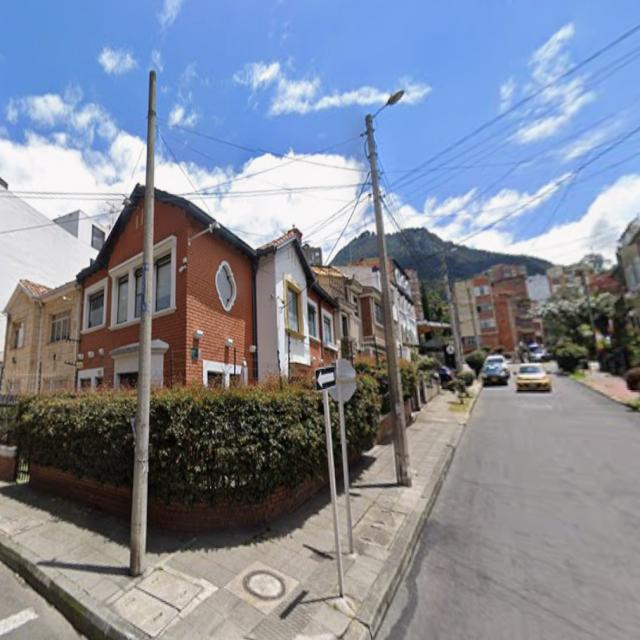fachada: (151, 190, 259, 385), (0, 179, 98, 308), (256, 228, 339, 379), (0, 280, 80, 394), (455, 266, 541, 352), (313, 266, 363, 358), (339, 259, 385, 355), (617, 217, 639, 325), (54, 210, 107, 250), (547, 266, 582, 296), (405, 269, 424, 321), (526, 275, 551, 303)
poste: (366, 114, 412, 486), (131, 71, 156, 576), (323, 391, 343, 596), (337, 381, 353, 553), (441, 255, 462, 371), (579, 270, 598, 353), (467, 285, 480, 348)
